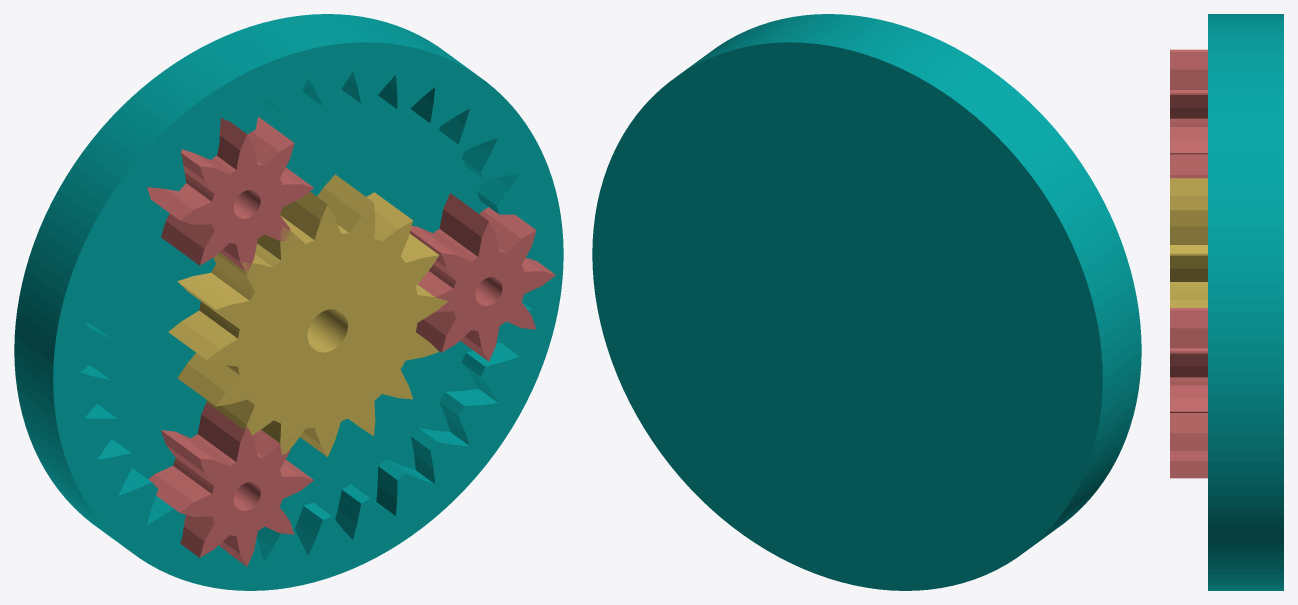
File: 08_planetary_gears.glb
3 views of the same model, side by side, from view 1: azimuth 30°, elevation 25°; view 2: azimuth 150°, elevation 25°; view 3: azimuth 270°, elevation 25° (orthographic). The views are drawn at different scales.
Parts seen in each view (by area): view 1: ring_gear, sun_gear, planet_2, planet_1, planet_0; view 2: ring_gear; view 3: ring_gear, planet_0, sun_gear, planet_1, planet_2.
Part boxes in pixels (x1,y1,x2,y2): ring_gear: (14,14,563,590); sun_gear: (168,174,448,457); planet_2: (148,402,313,566); planet_1: (147,116,313,273); planet_0: (410,193,555,361); ring_gear: (592,14,1141,590); ring_gear: (1208,14,1283,590); planet_0: (1170,308,1207,450); sun_gear: (1170,178,1207,307); planet_1: (1170,49,1207,178); planet_2: (1170,451,1207,478).
Bounding box in the file's own units: 76 × 75.98 × 15.
